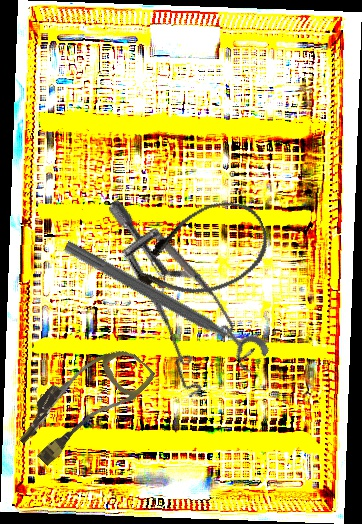Cannula: (9, 327, 158, 479), (121, 188, 280, 317)
Fixation Ring: (54, 234, 272, 378)
Speculum: (46, 196, 287, 415)
